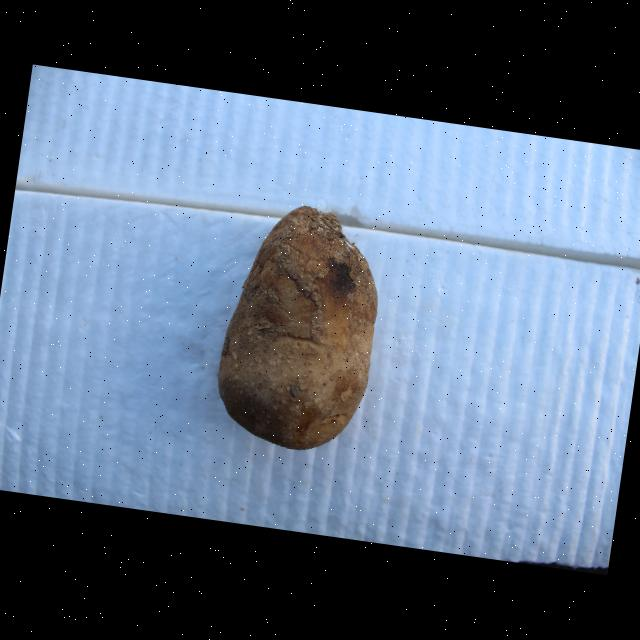Diseased-fungal potato: (207, 197, 394, 462)
